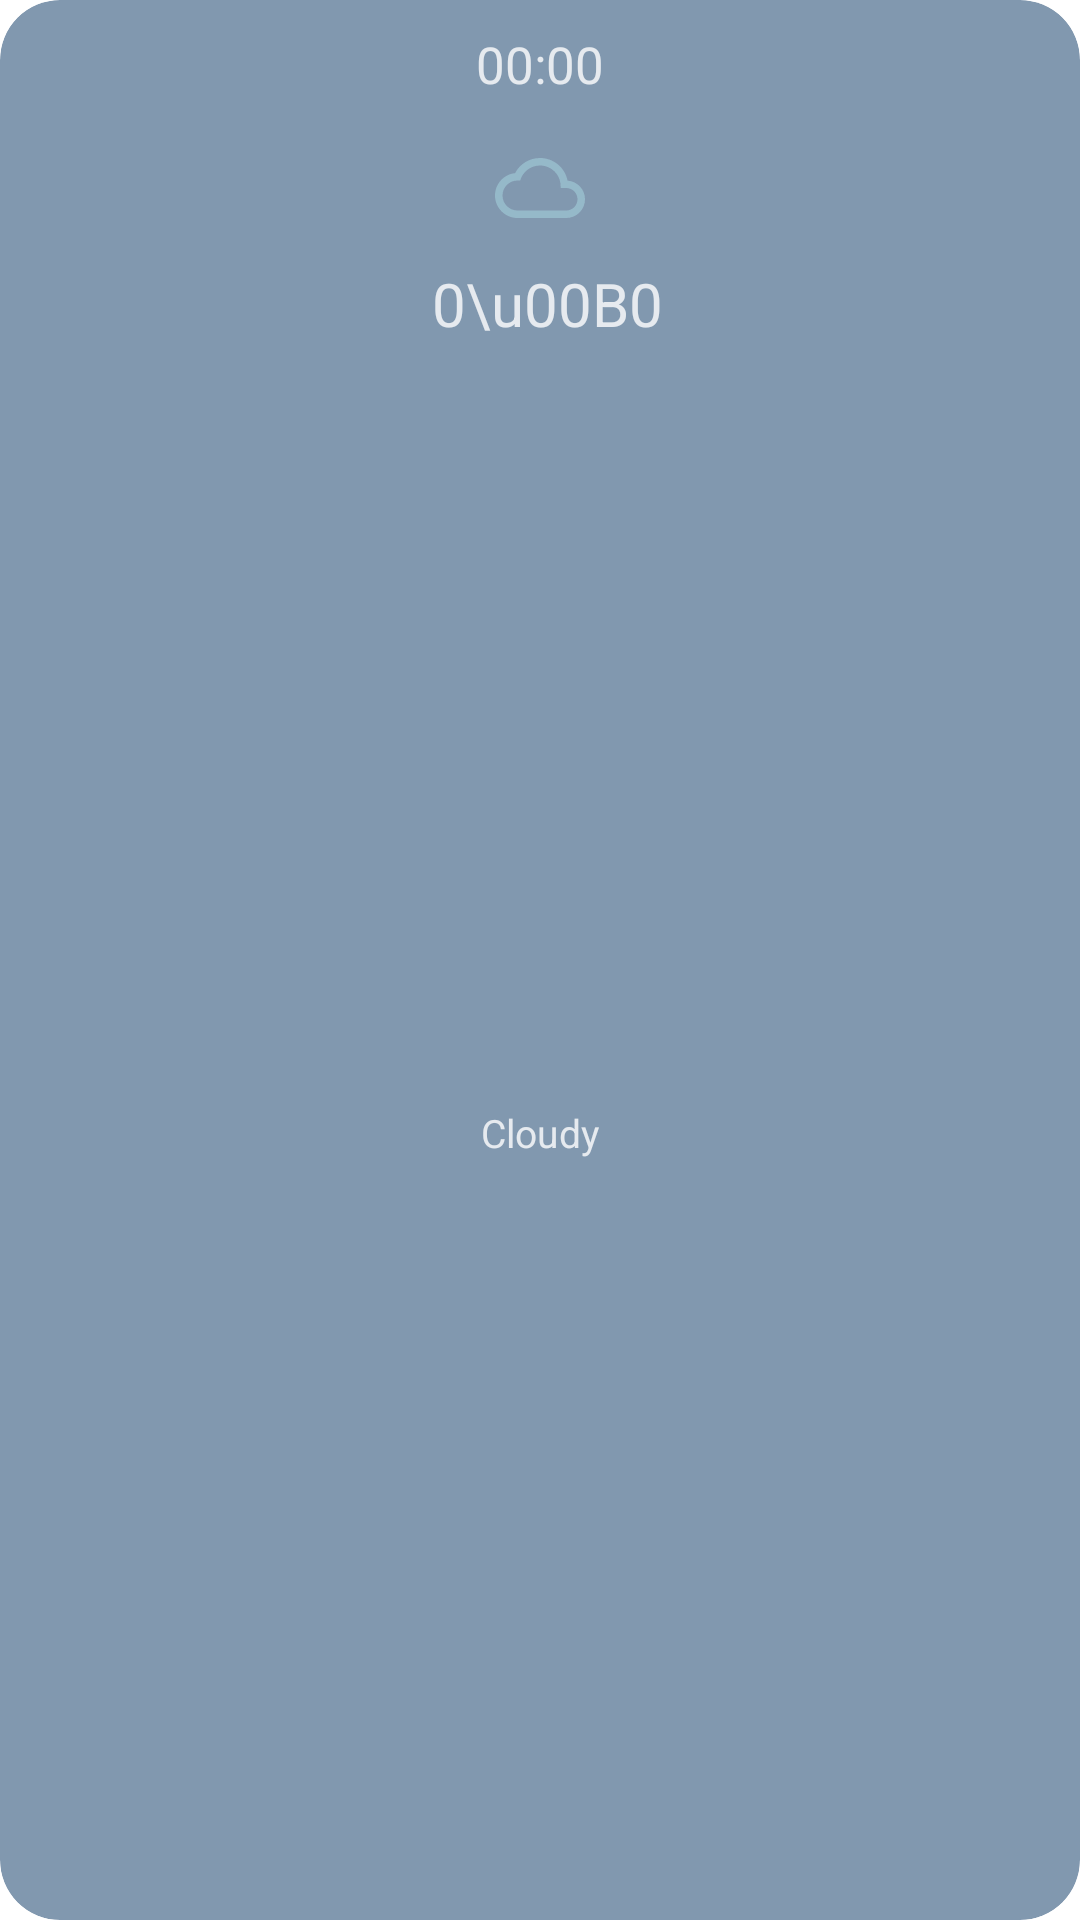

Screen size 1080*1920. Icon name, then its center in pixels as point (x, y):
weather: point (540, 188)
